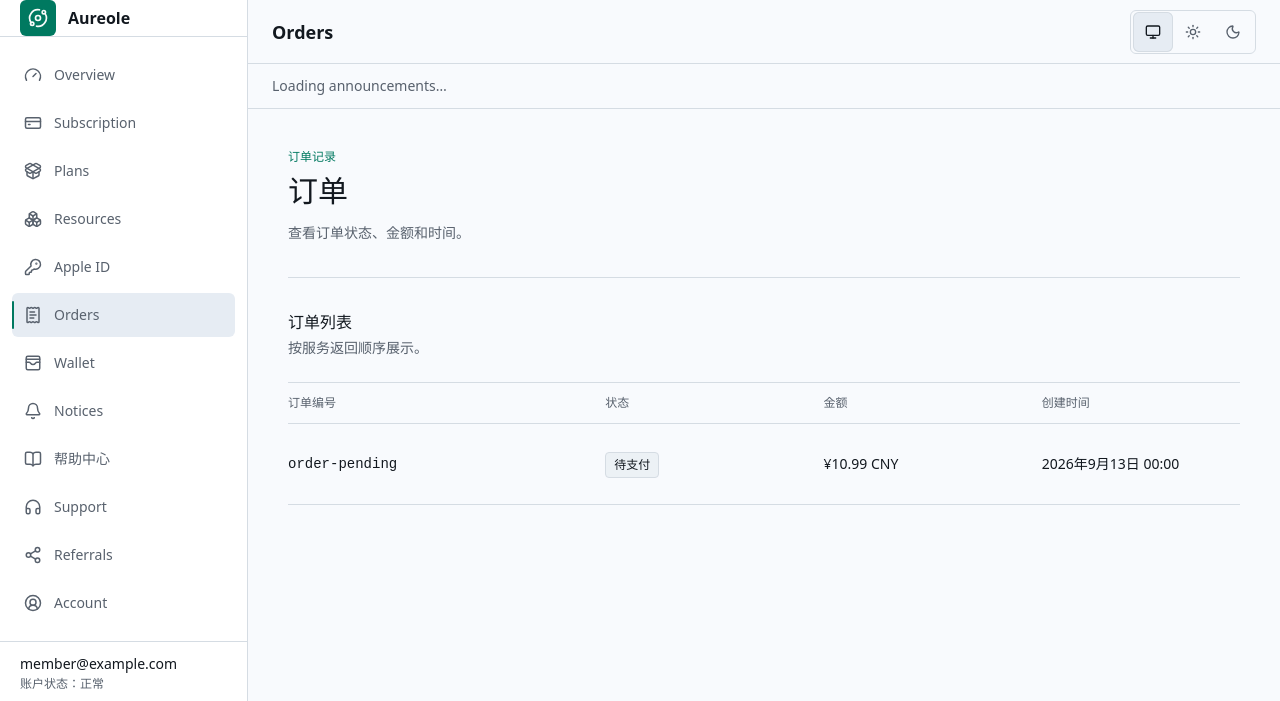
Test: Order Cancel flow › requires explicit confirmation and Return sends no POST
Click the button "order-pending 待支付 ¥10.99 CNY 2026年9月13日 00:00" at (343, 464), box [288,424,1240,504]
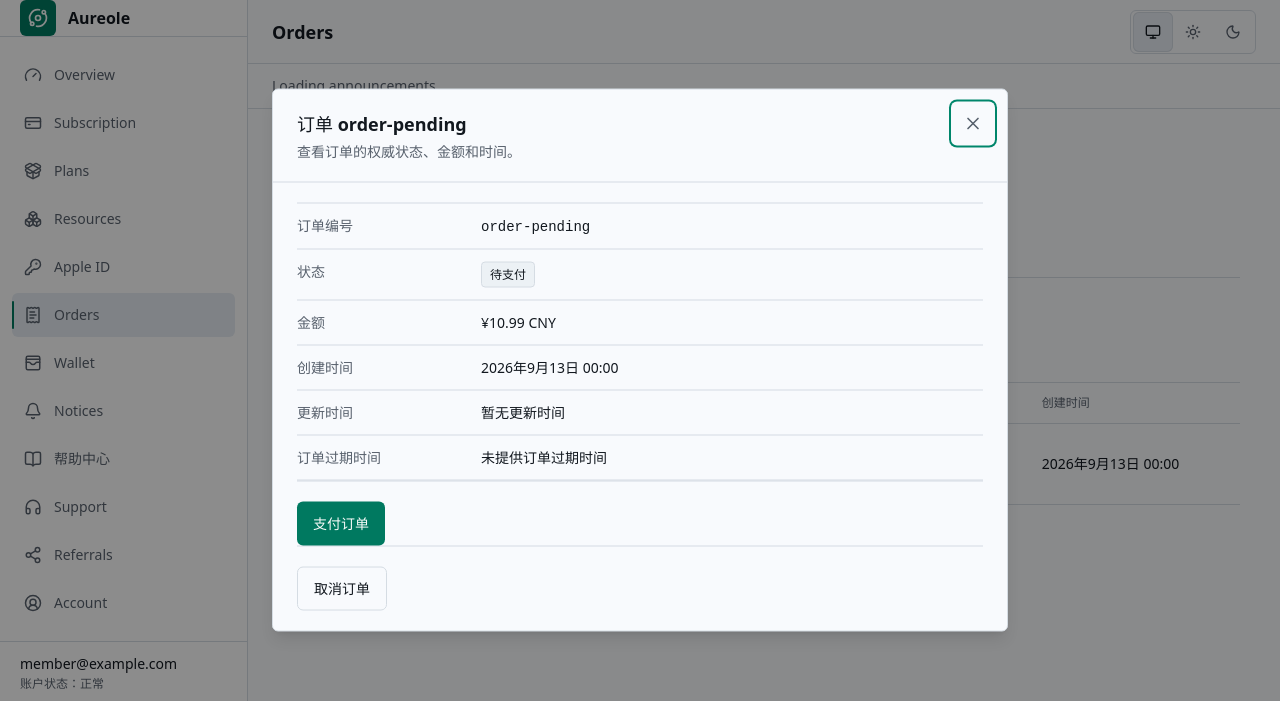
Expected: the heading "订单 order-pending" is shown, [297,112,467,136]
Click the button "取消订单" at (342, 588), box [297,566,387,610]
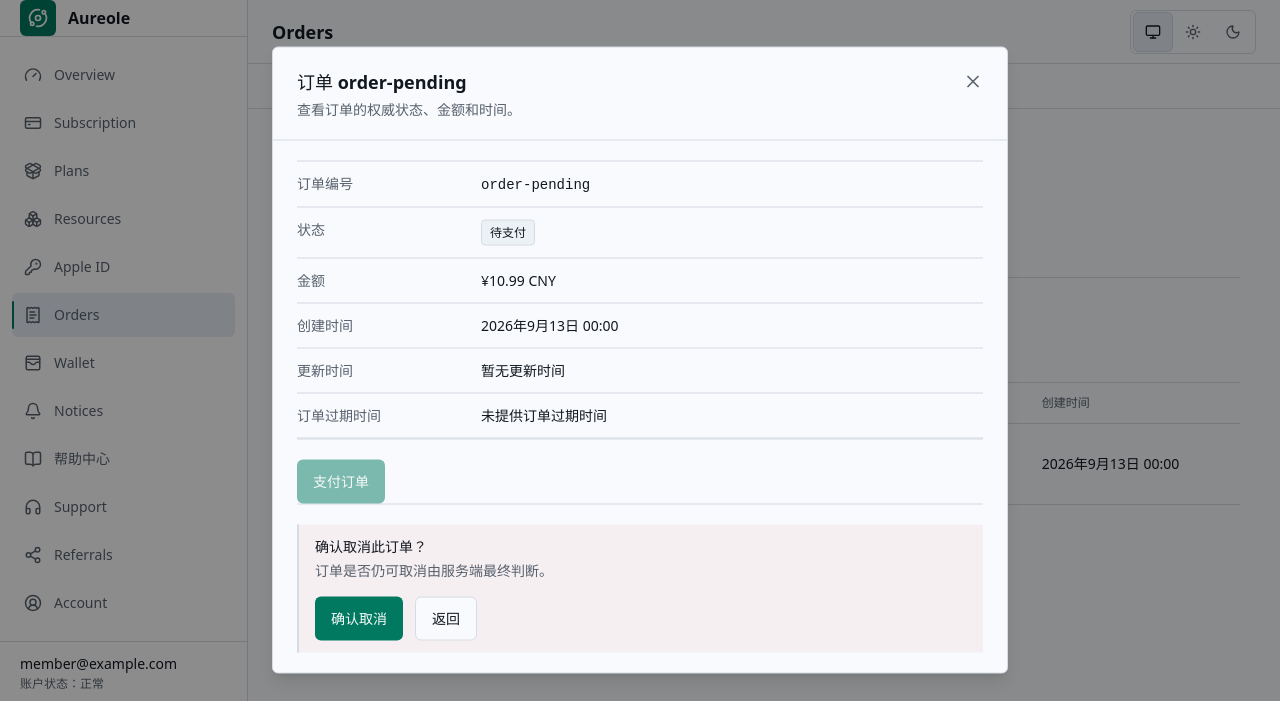
Expected: the text "确认取消此订单？" is shown, [315,536,427,556]
Click the button "返回" at (446, 618), box [415,596,477,640]
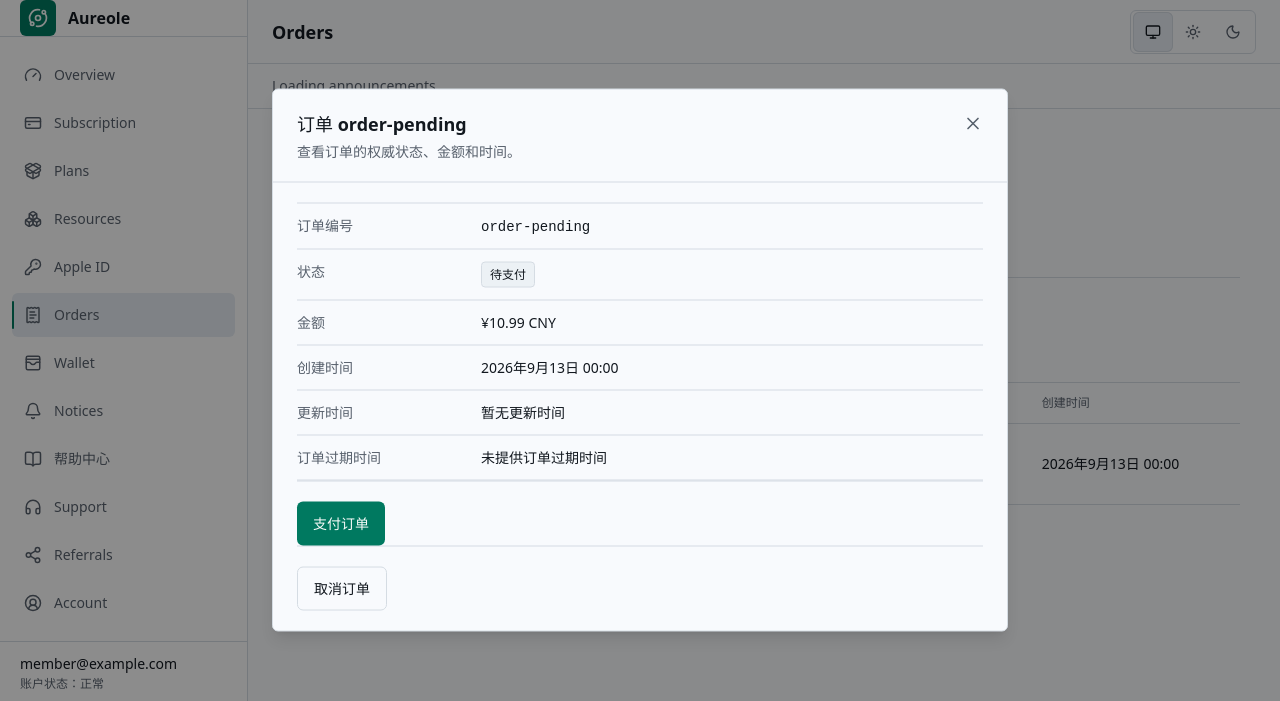
Expected: the button "取消订单" is shown, [297,566,387,610]
